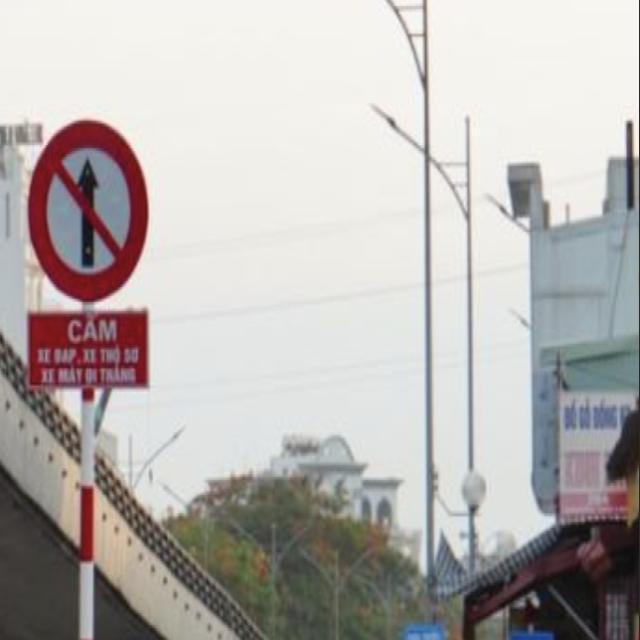136-cam-di-thang: (25, 115, 148, 300)
